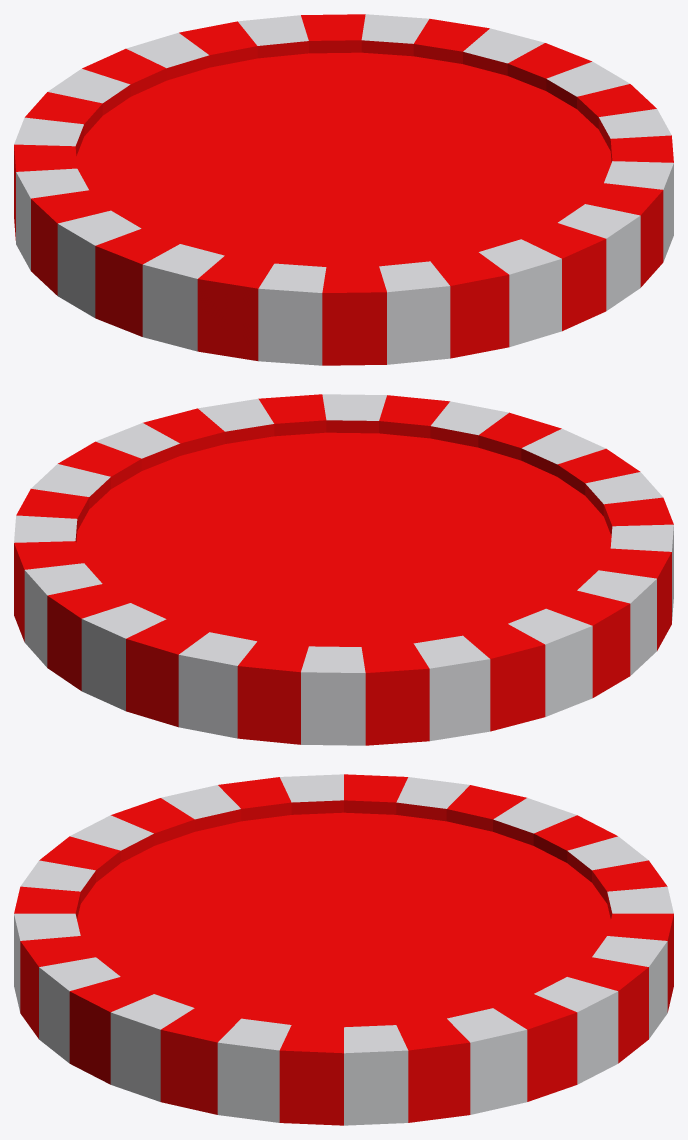
The model's file is red chip.fbx.
3 renders of one model, top to bottom at view 1: azimuth 30°, elevation 25°; view 2: azimuth 150°, elevation 25°; view 3: azimuth 270°, elevation 25°, orthographic.
Visible parts, largest first — view 1: chip.001; view 2: chip.001; view 3: chip.001.
Boxes of the visible parts, left/top/right/bottom form: chip.001: left=14, top=14, right=673, bottom=365; chip.001: left=14, top=394, right=673, bottom=745; chip.001: left=14, top=774, right=673, bottom=1125.
Bounding box in the file's own units: 336 × 40.69 × 336.
